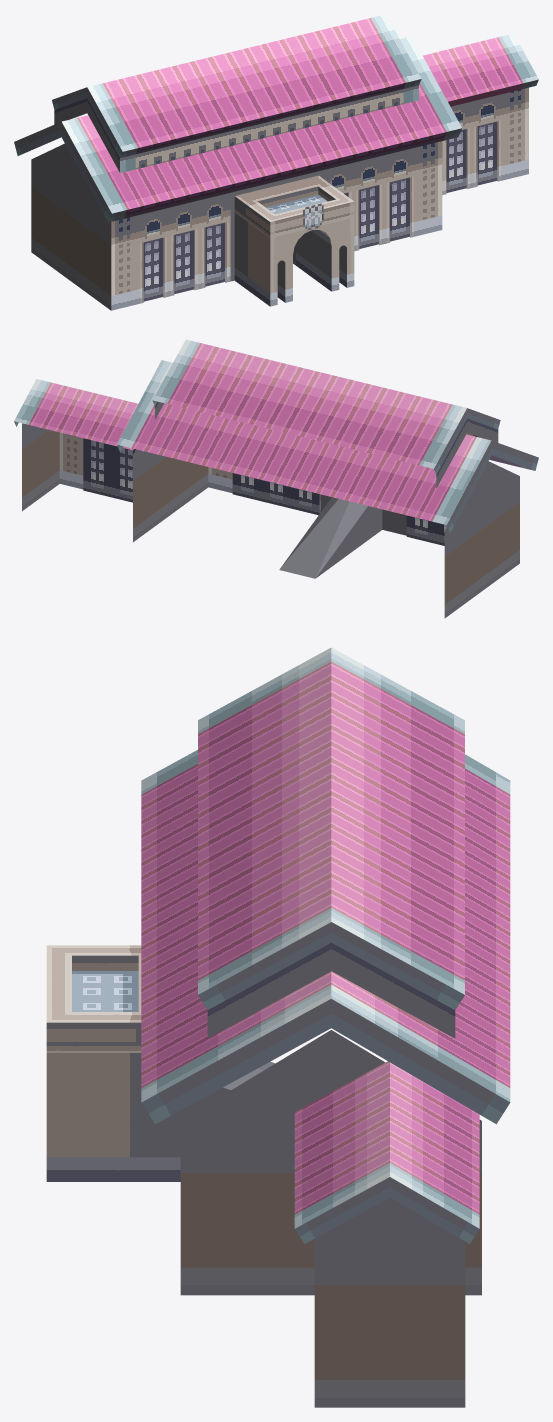
Rendered from museum.glb.
3 renders of one model, top to bottom at view 1: azimuth 30°, elevation 25°; view 2: azimuth 150°, elevation 25°; view 3: azimuth 270°, elevation 25°, orthographic. The views are drawn at different scales.
Visible parts, largest first — view 1: museum; view 2: museum; view 3: museum.
Boxes of the visible parts, x1,y1,x2,y2 form: museum: [14, 14, 538, 310]; museum: [14, 339, 538, 618]; museum: [46, 647, 510, 1407].
Bounding box in the file's own units: 15.19 × 5.91 × 6.99.
11 materials, 11 textured.
